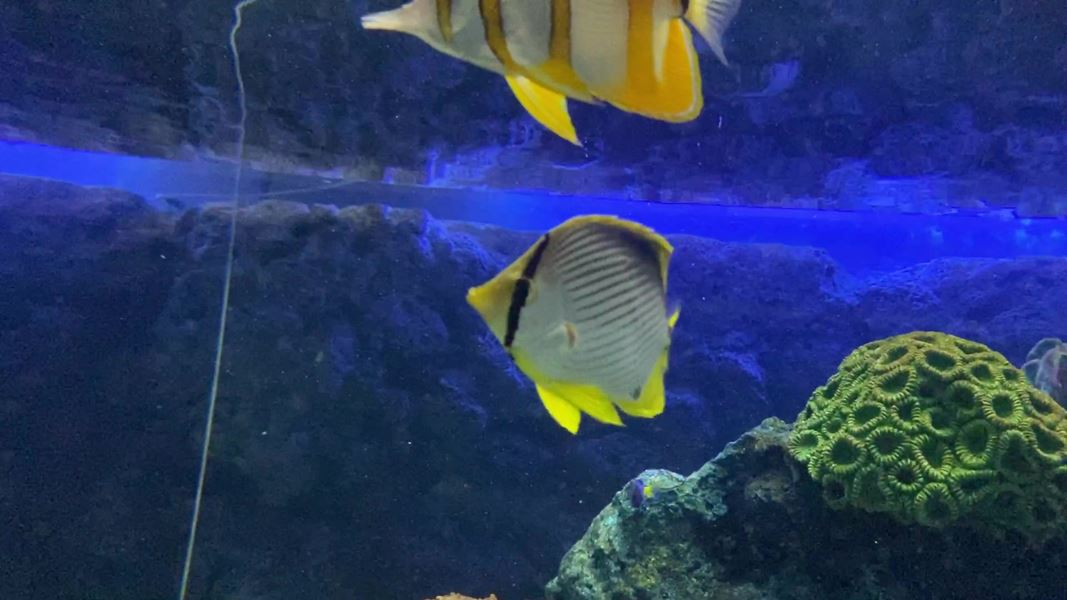Black-backed butterflyfish: (456, 206, 697, 448)
